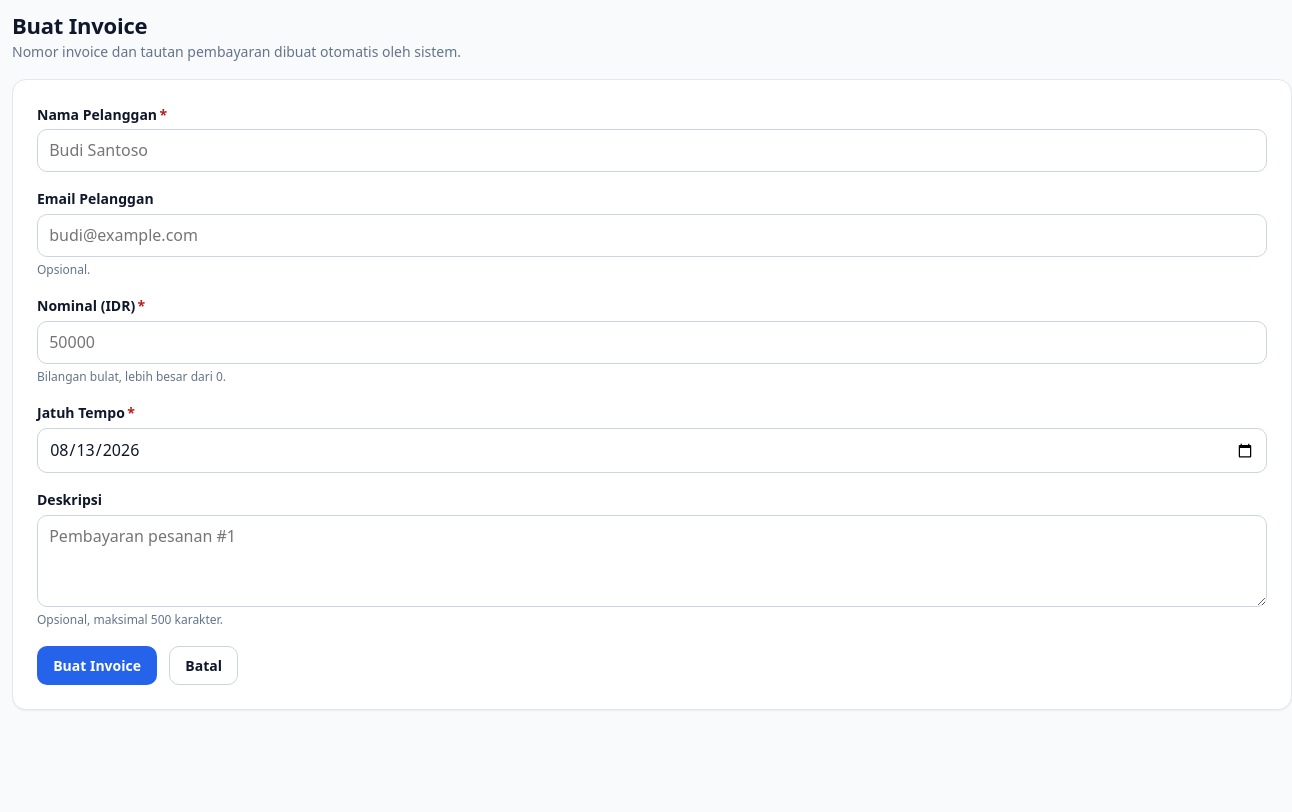
Test case: amount validation (SRS §4.5: amount > 0) › rejects a fractional amount
This screenshot has width=1292, height=812.
In the field labelled "Nama Pelanggan*": (652, 151) [37,130,1267,172], type "Budi"
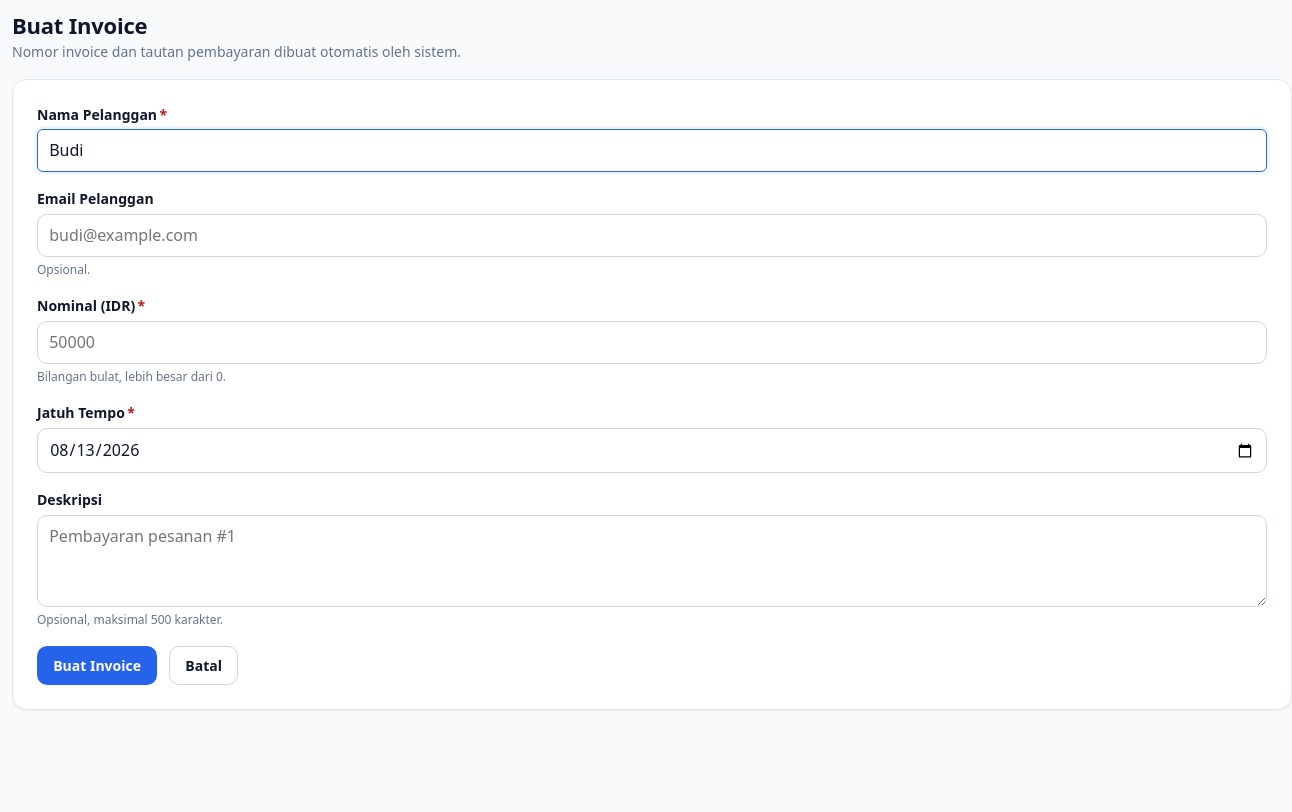
In the number field labelled "Nominal (IDR)*": (652, 342) [37,321,1267,364], type "100.5"
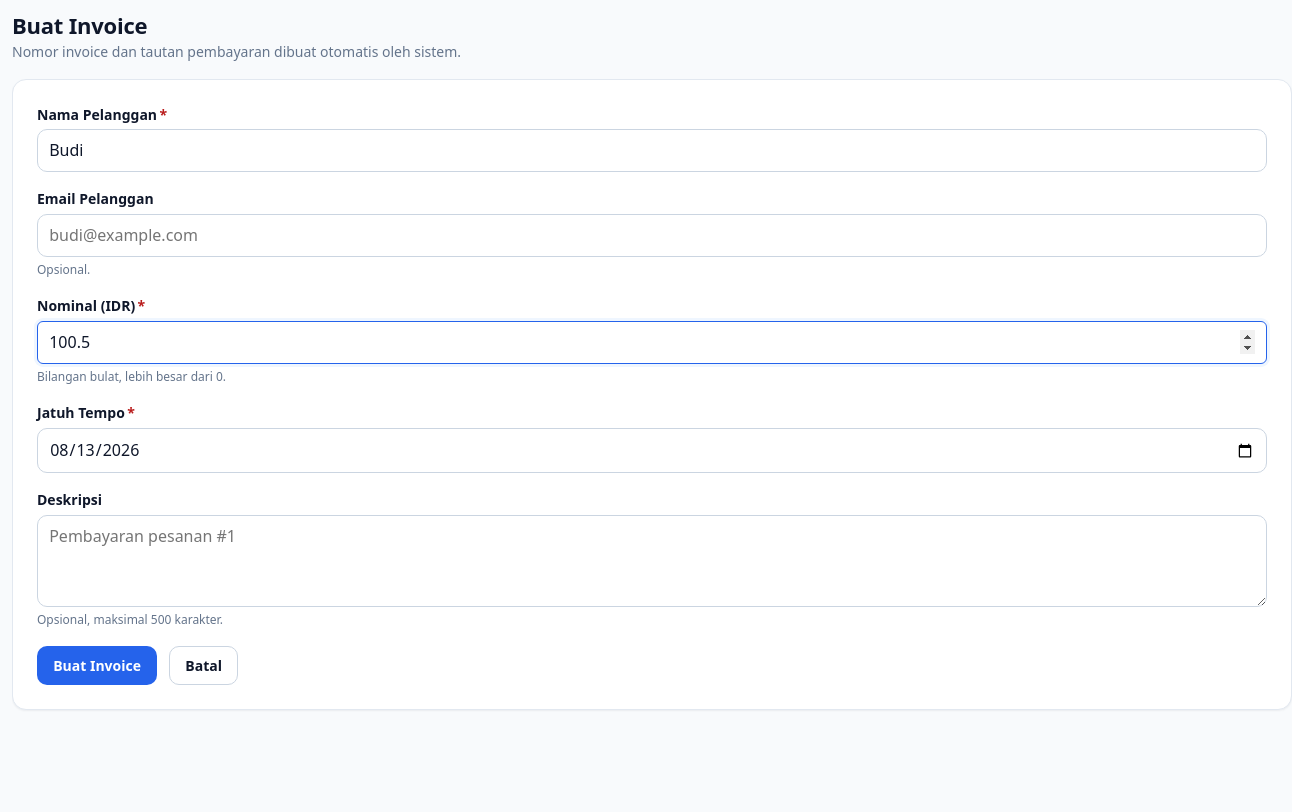
Click the button "Buat Invoice": (97, 665) [37,646,157,685]
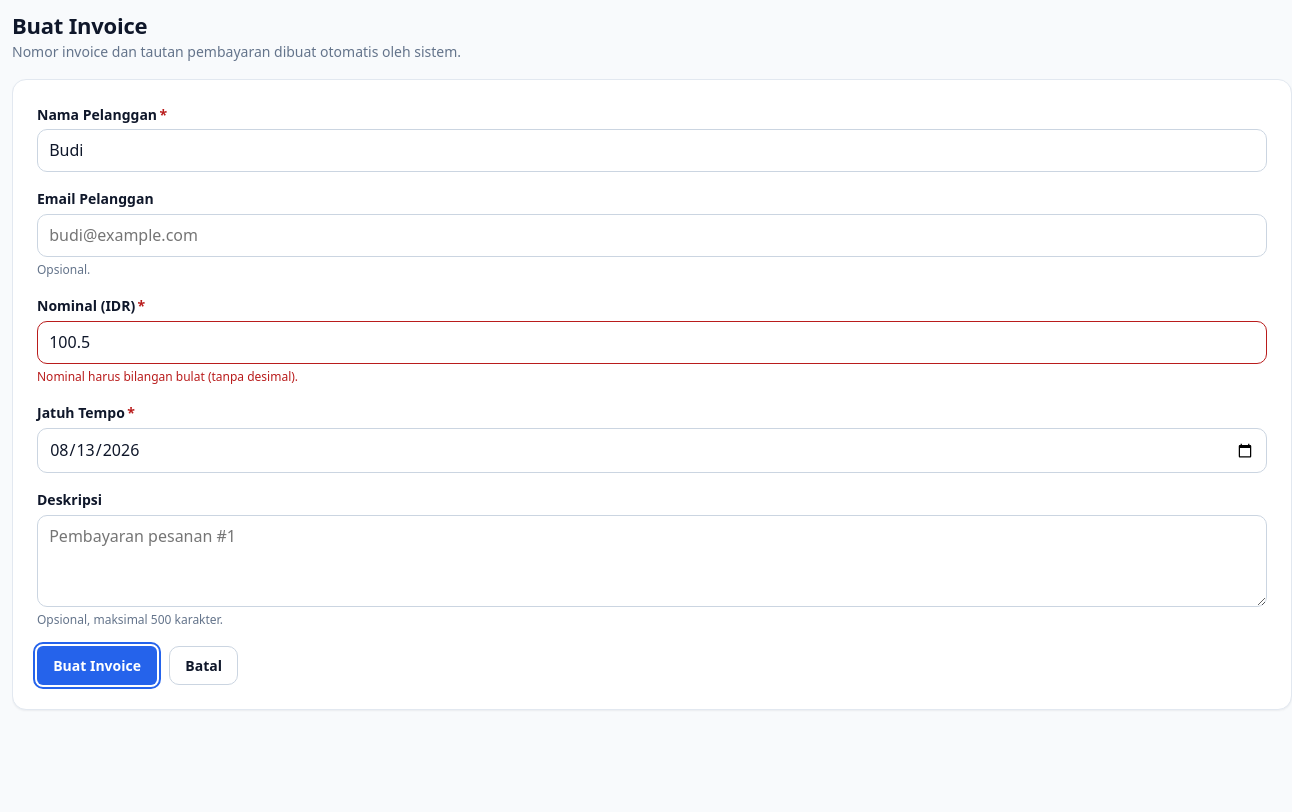
Expected: the text "Nominal harus bilangan bulat (tanpa desimal)." is shown, [37,368,298,385]
